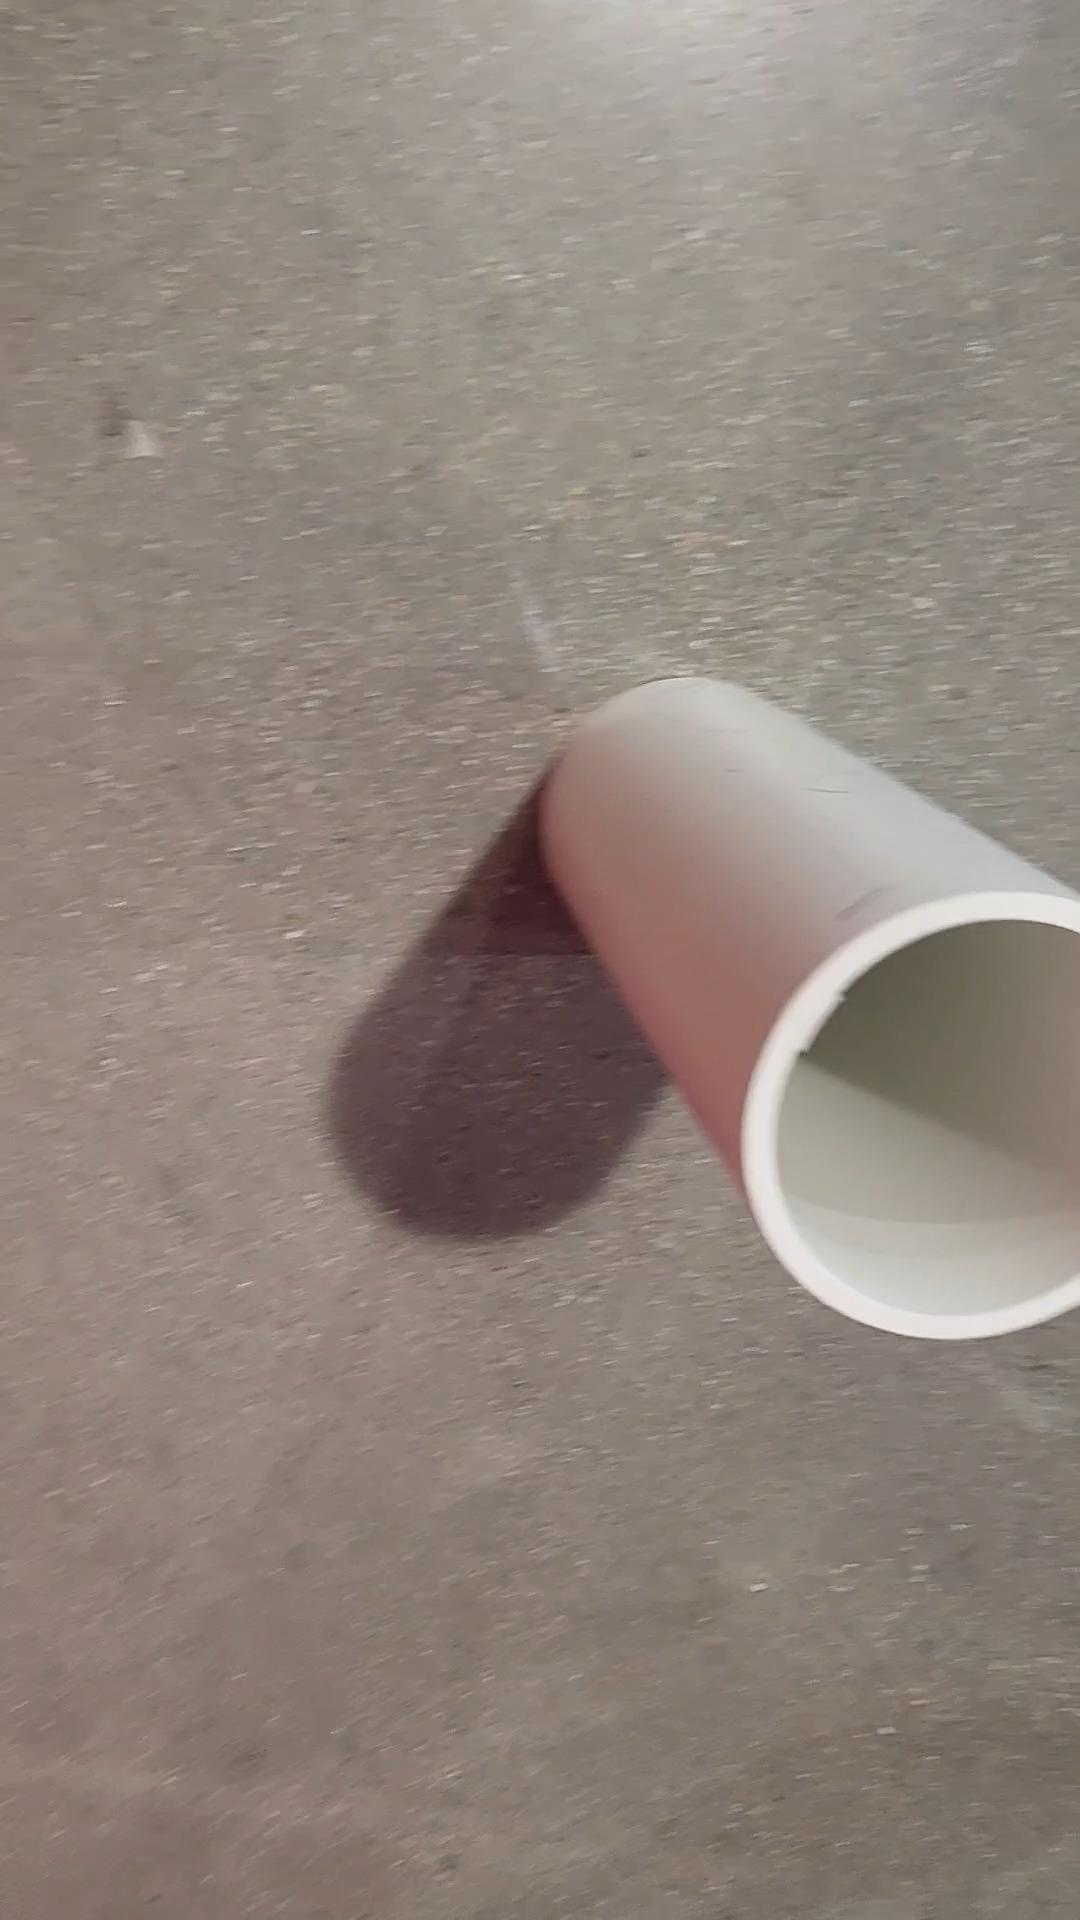coral: (540, 667, 1080, 1353)
